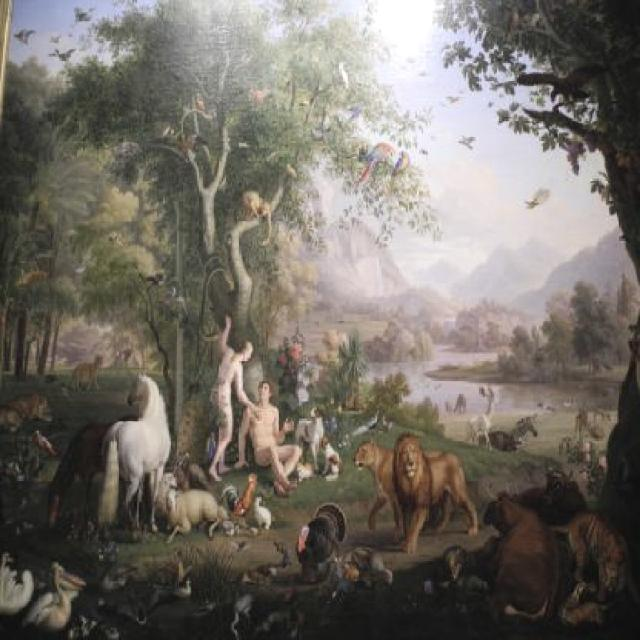Person: (205, 315, 267, 477), (231, 378, 303, 504)
